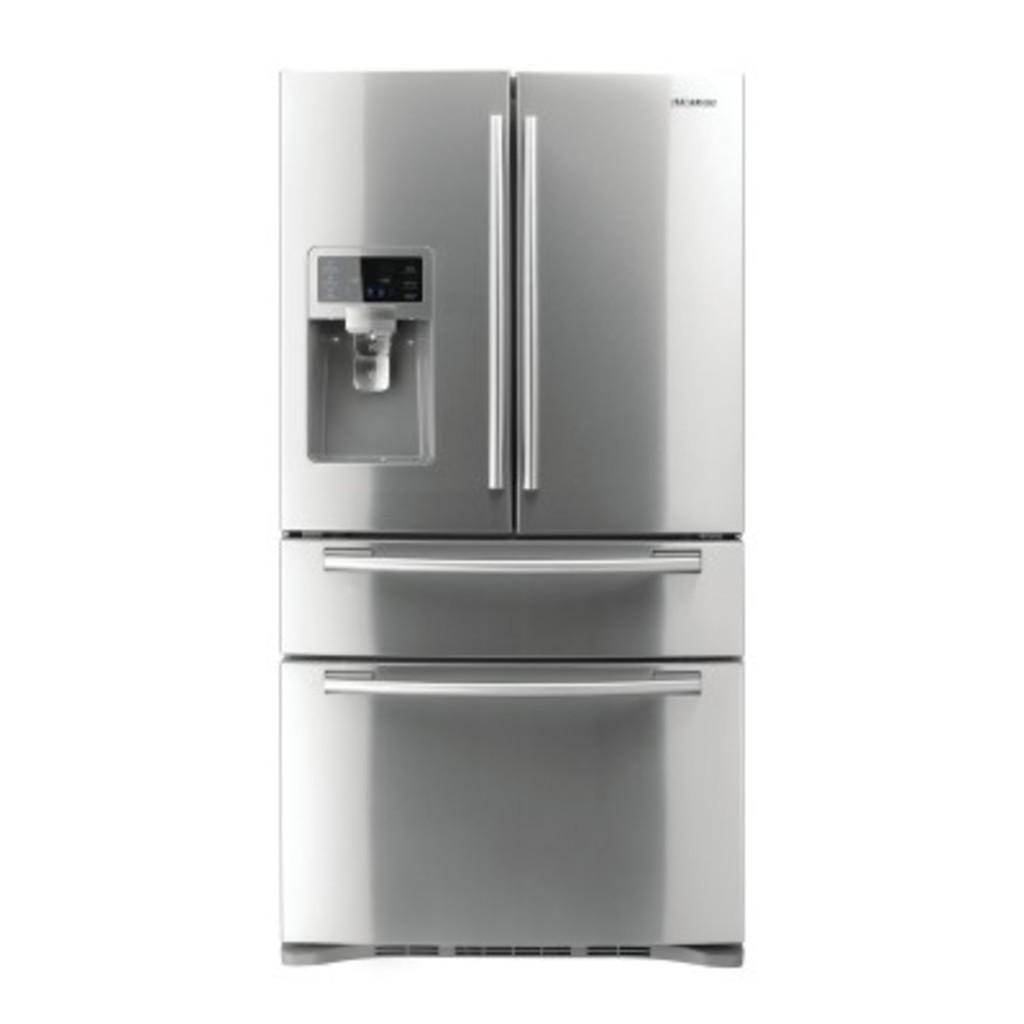handle: (329, 539, 700, 589), (319, 668, 703, 704), (516, 108, 546, 506), (483, 111, 511, 499)
